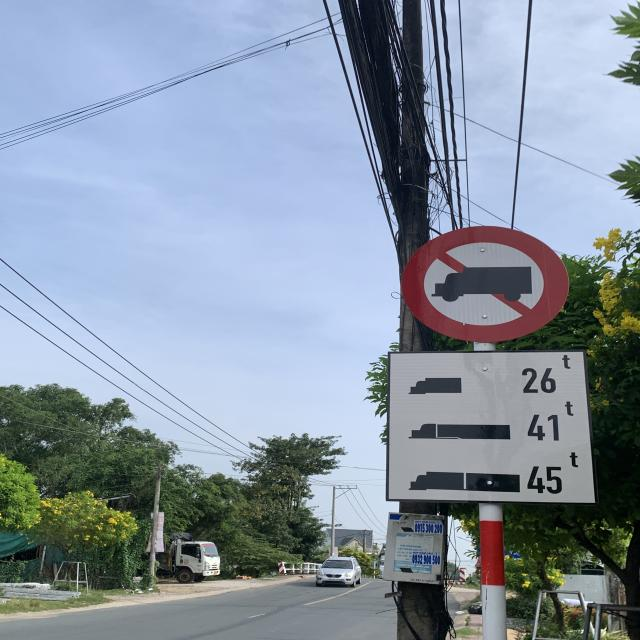Cam_Xe_Tai: (402, 222, 567, 343)
